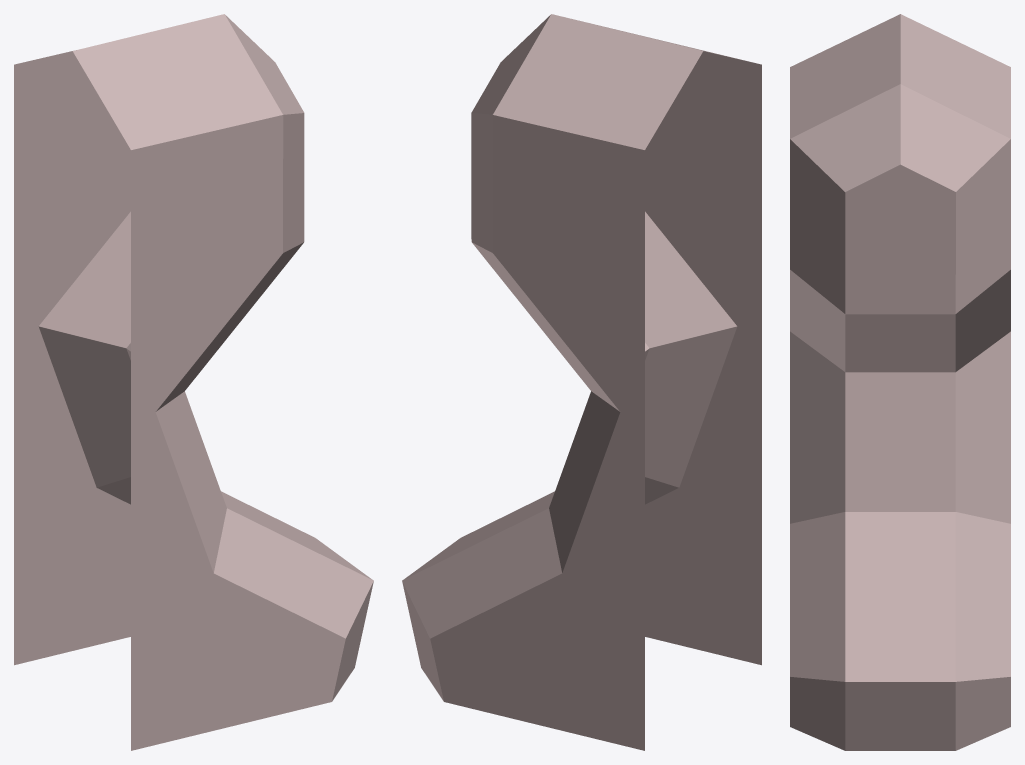
File: BRailEnd.fbx
The picture shows the model from 3 angles, left to right: view 1: azimuth 30°, elevation 25°; view 2: azimuth 150°, elevation 25°; view 3: azimuth 270°, elevation 25°; orthographic projection. The views are drawn at different scales.
Visible parts, largest first — view 1: BRailEnd; view 2: BRailEnd; view 3: BRailEnd.
Part boxes in pixels (x1,y1,x2,y2): BRailEnd: (14,14,373,750); BRailEnd: (402,14,761,750); BRailEnd: (790,14,1010,750).
Size of the model in its own units: 67.13 by 155 by 50.
